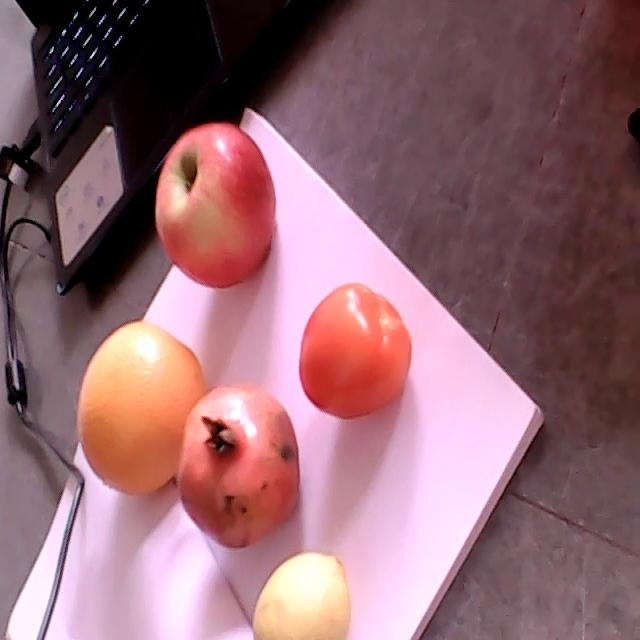apple: (155, 123, 276, 287)
lemon: (252, 553, 351, 639)
orange: (77, 320, 208, 495)
pomegranate: (177, 381, 299, 550)
tomato: (298, 282, 412, 417)
